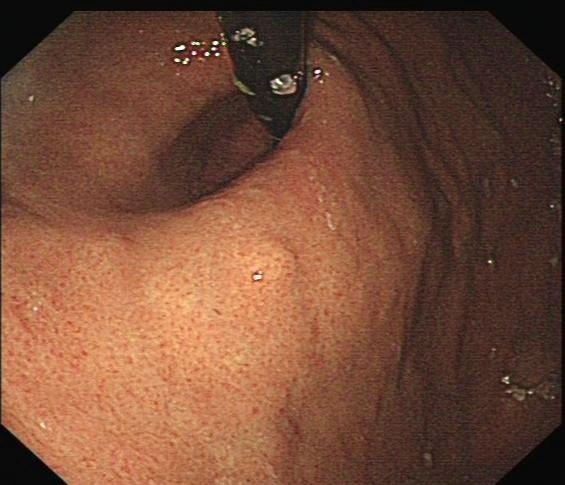Polyp: (249, 243, 300, 294)
